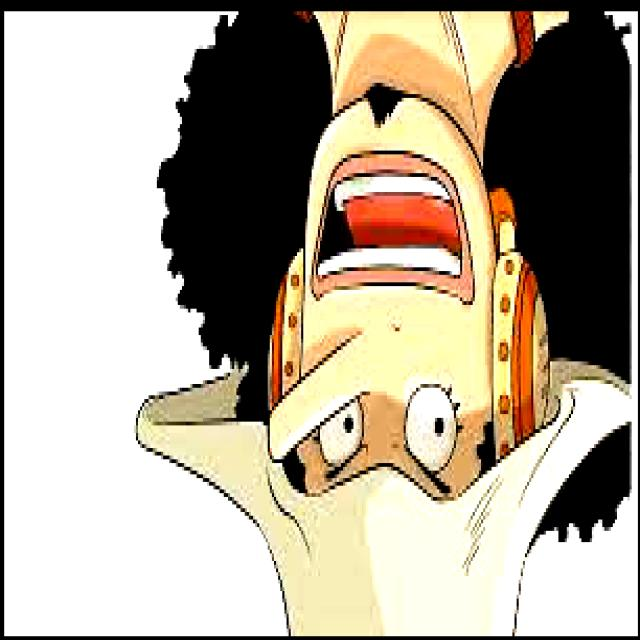Usopp: (136, 8, 634, 632)
